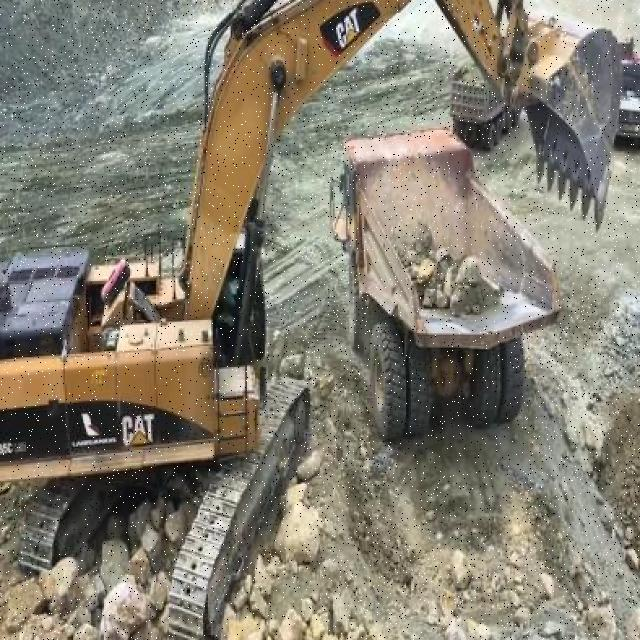Dump Truck: (328, 120, 567, 452), (446, 62, 522, 152), (614, 39, 640, 148)
Excavator: (0, 0, 619, 640)
